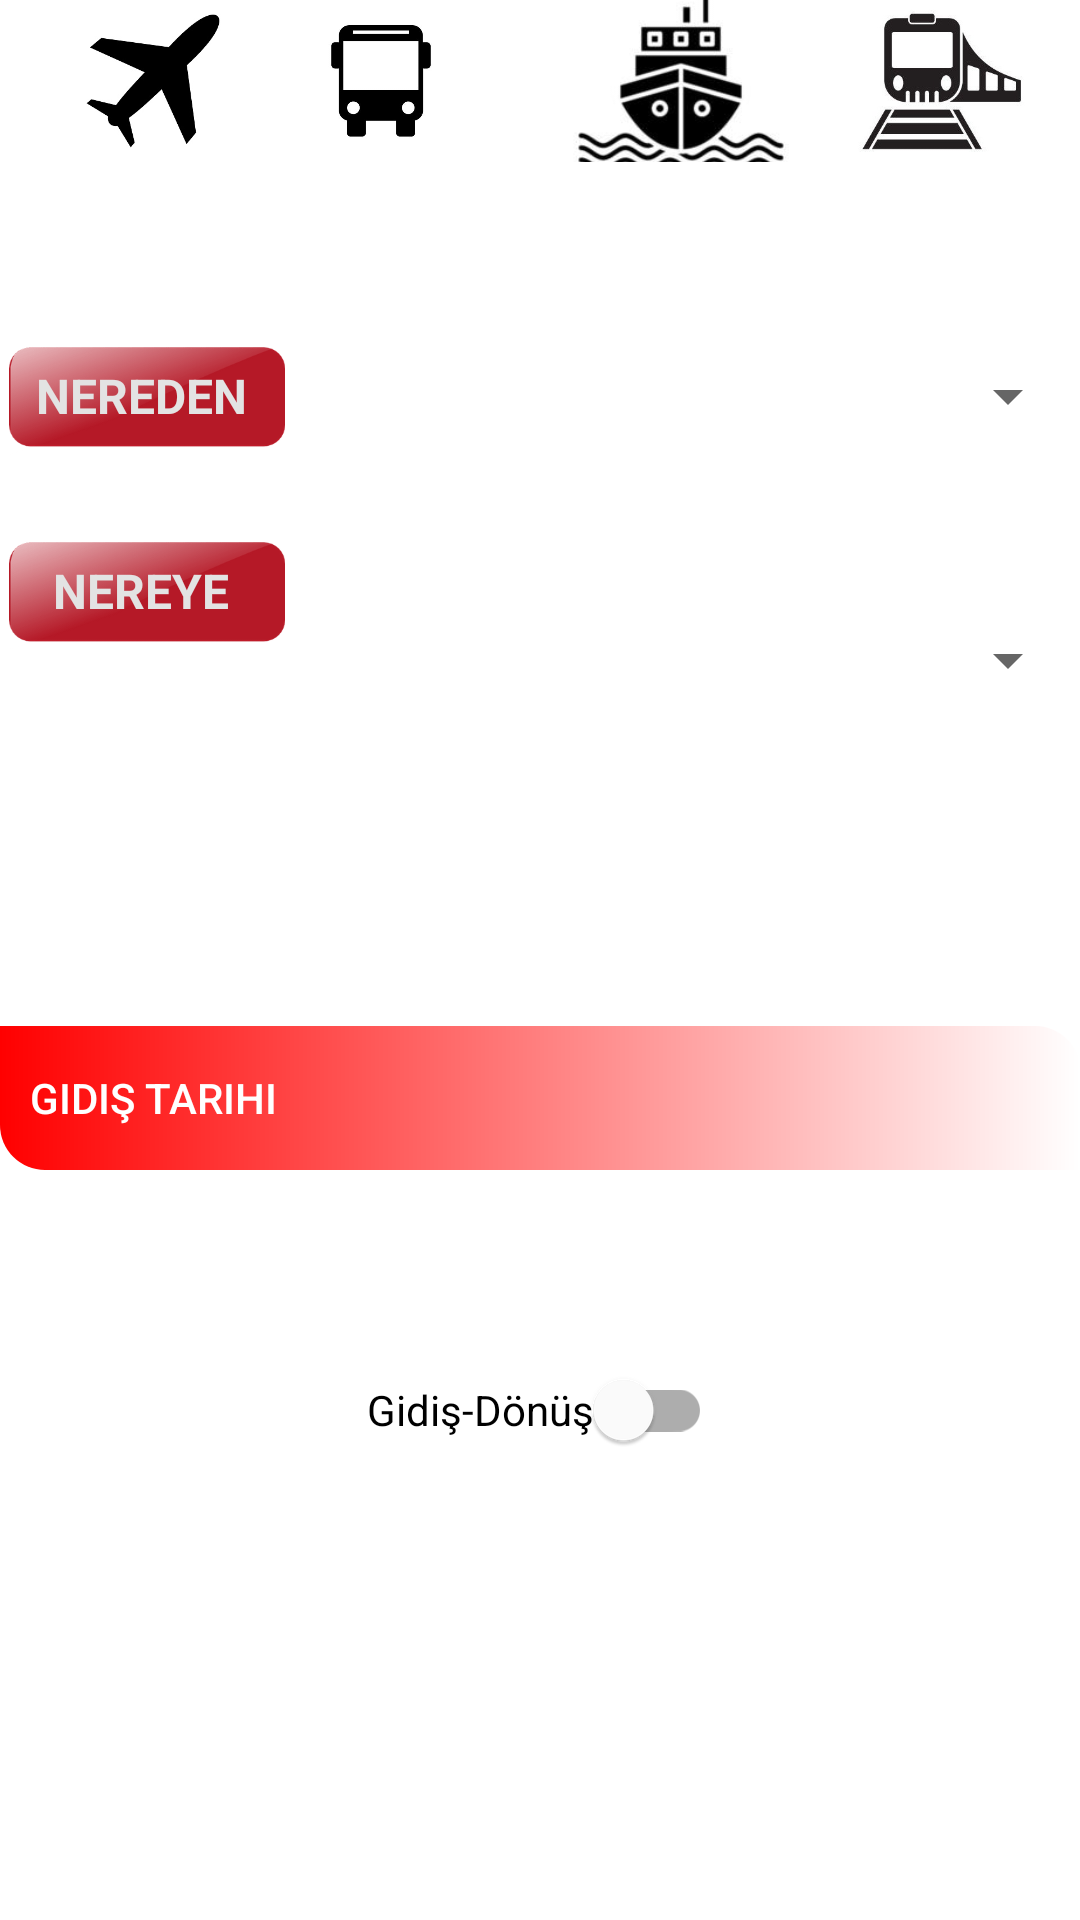

Icons on this 1080w x 1920h Android screen, each with its box as Rect(x1, y1, x2, y2):
airplane: Rect(87, 14, 220, 147)
bus: Rect(331, 25, 431, 137)
ferryboat: Rect(578, 0, 784, 162)
train: Rect(862, 13, 1021, 150)
